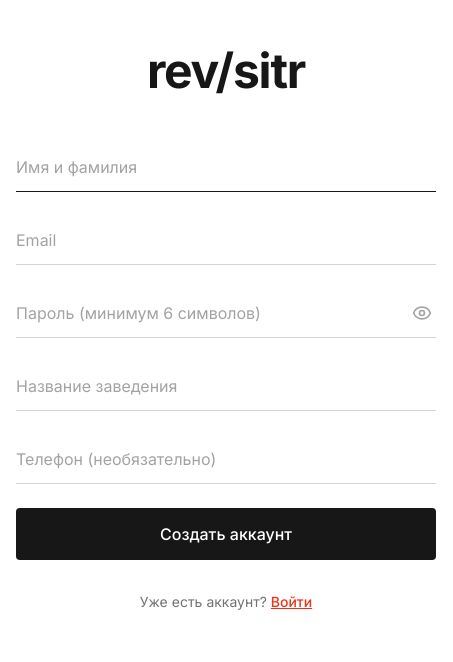
Test: RegisterPage › shows fallback error message and stays on page when registration fails
Type "Иван Иванов" into the field labelled "Имя и фамилия" at [226, 167], box [16, 142, 436, 192]
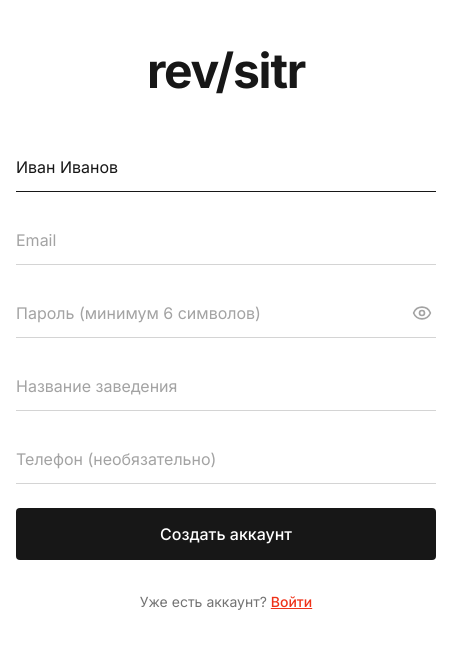
Type "ivan@example.com" into the field labelled "Email" at [226, 240], box [16, 216, 436, 264]
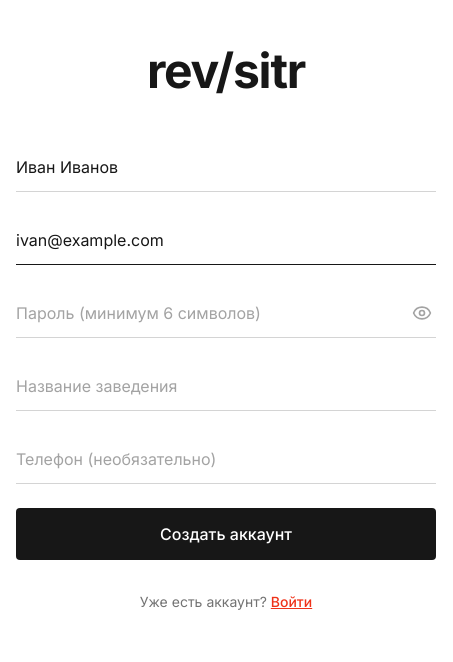
Type "secret123" into the password field labelled "Пароль" at [226, 313], box [16, 288, 436, 338]
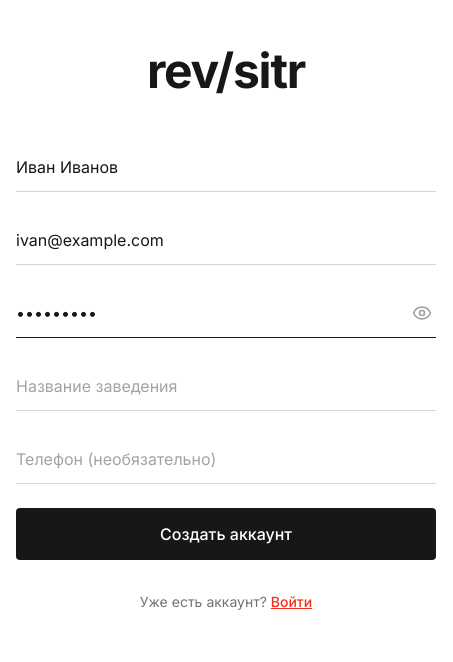
Type "Baratie" into the field labelled "Название заведения" at [226, 386], box [16, 362, 436, 410]
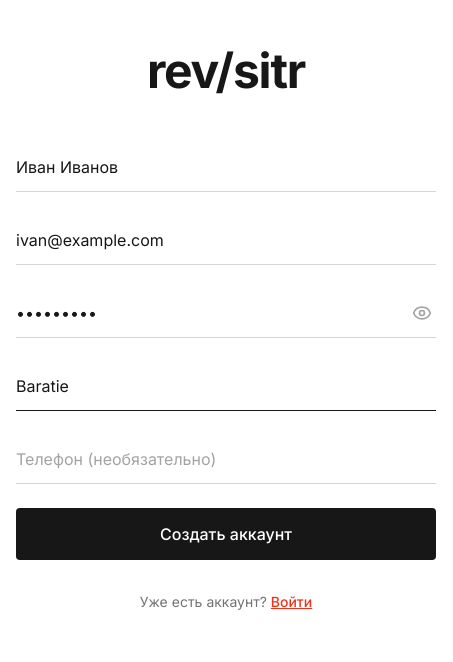
Click the button "Создать аккаунт" at [226, 534], box [16, 508, 436, 560]
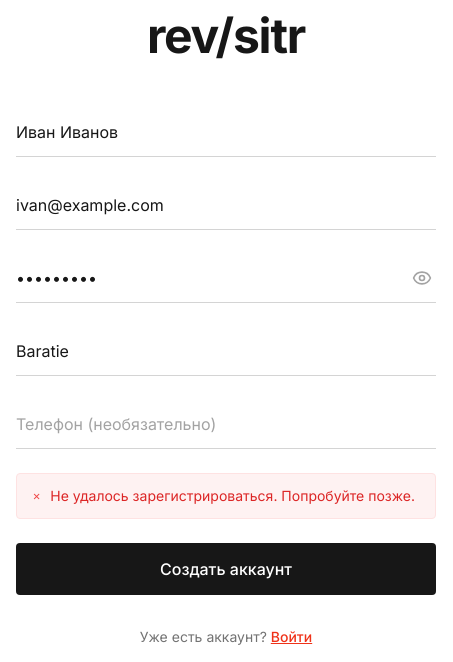
Result: the text "Не удалось зарегистрироваться. Попробуйте позже." is shown at [50, 486, 415, 506]
